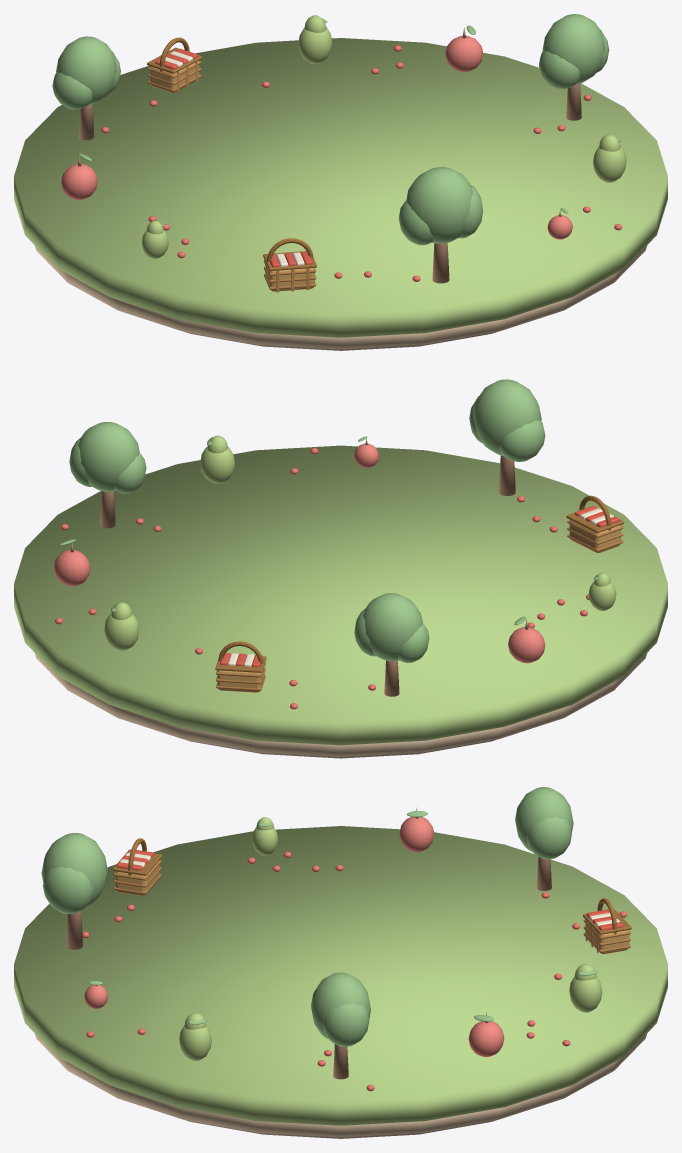
File: world.glb
The picture shows the model from 3 angles, top to bottom: view 1: azimuth 30°, elevation 25°; view 2: azimuth 150°, elevation 25°; view 3: azimuth 270°, elevation 25°; orthographic projection.
Visible parts, largest first — view 1: Cone, Cone.001, tree.003, tree.001, tree.002, basket.002, basket.001, pear.001, pear.003, apple.001, apple.002, pear.002 (+2 smaller); view 2: Cone, Cone.001, tree.003, tree.001, tree.002, basket.002, basket.001, pear.001, pear.003, apple.002, apple.001, pear.002 (+1 smaller); view 3: Cone, Cone.001, tree.003, tree.001, tree.002, basket.002, basket.001, pear.001, pear.003, apple.001, apple.002, pear.002 (+2 smaller).
Part boxes in pixels (x1,y1,x2,y2): Cone: (14,38,667,337); Cone.001: (34,245,647,349); tree.003: (399,167,482,283); tree.001: (539,14,609,120); tree.002: (52,36,120,140); basket.002: (263,238,316,292); basket.001: (147,37,202,92); pear.001: (298,15,332,63); pear.003: (593,134,626,182); apple.001: (445,25,482,72); apple.002: (61,153,97,200); pear.002: (141,220,168,258); Cone: (14,445,667,745); Cone.001: (34,653,647,756); tree.003: (469,379,545,495); tree.001: (69,422,146,528); tree.002: (354,593,429,696); basket.002: (566,495,624,552); basket.001: (215,641,266,692); pear.001: (104,602,139,650); pear.003: (200,435,234,483); apple.002: (508,616,545,663); apple.001: (54,539,90,586); pear.002: (588,572,616,610); Cone: (14,826,667,1125); Cone.001: (34,1033,647,1137); tree.003: (41,833,107,949); tree.001: (311,972,370,1079); tree.002: (515,787,573,890); basket.002: (112,838,162,895); basket.001: (583,898,631,954); pear.001: (569,964,602,1012); pear.003: (179,1013,211,1060); apple.001: (468,1012,504,1057); apple.002: (399,807,434,852); pear.002: (252,817,277,855).
Bounding box in the file's own units: 9.6 × 2.58 × 9.6.
